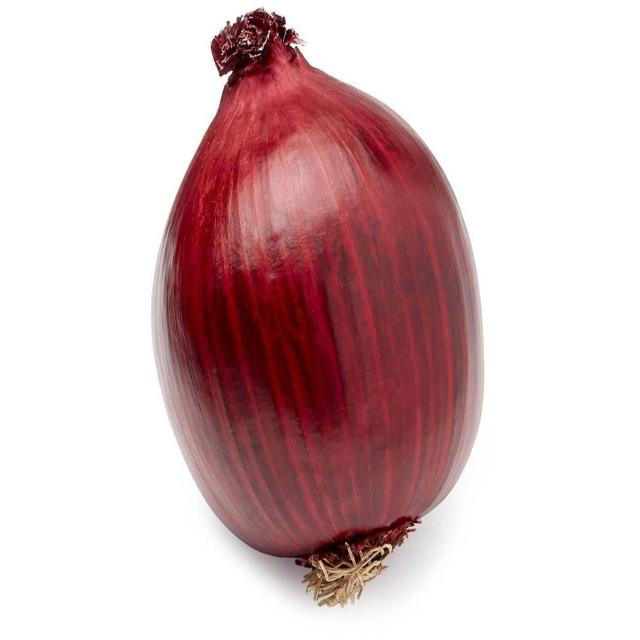Onion: (150, 6, 486, 608)
